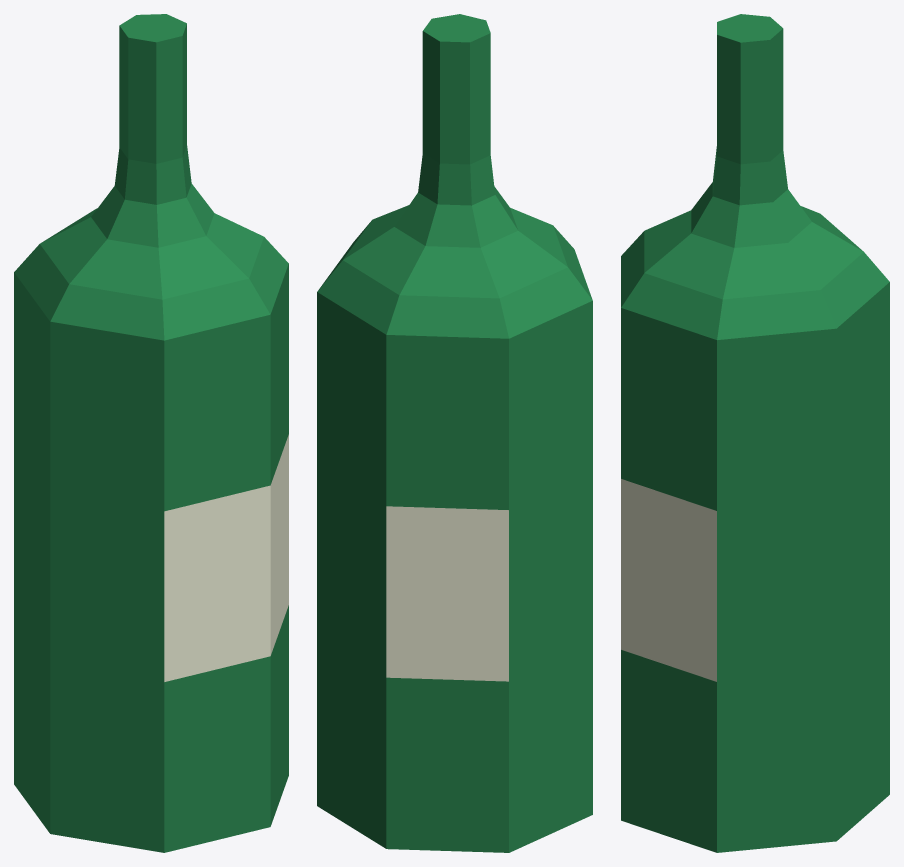
Rendered from bottle.fbx.
The picture shows the model from 3 angles, left to right: view 1: azimuth 30°, elevation 25°; view 2: azimuth 150°, elevation 25°; view 3: azimuth 270°, elevation 25°; orthographic projection.
Visible parts, largest first — view 1: Cylinder; view 2: Cylinder; view 3: Cylinder.
Boxes of the visible parts, x1,y1,x2,y2 form: Cylinder: (14, 14, 288, 852); Cylinder: (317, 14, 592, 852); Cylinder: (621, 14, 889, 852).
Bounding box in the file's own units: 11.29 × 34.63 × 11.01.
